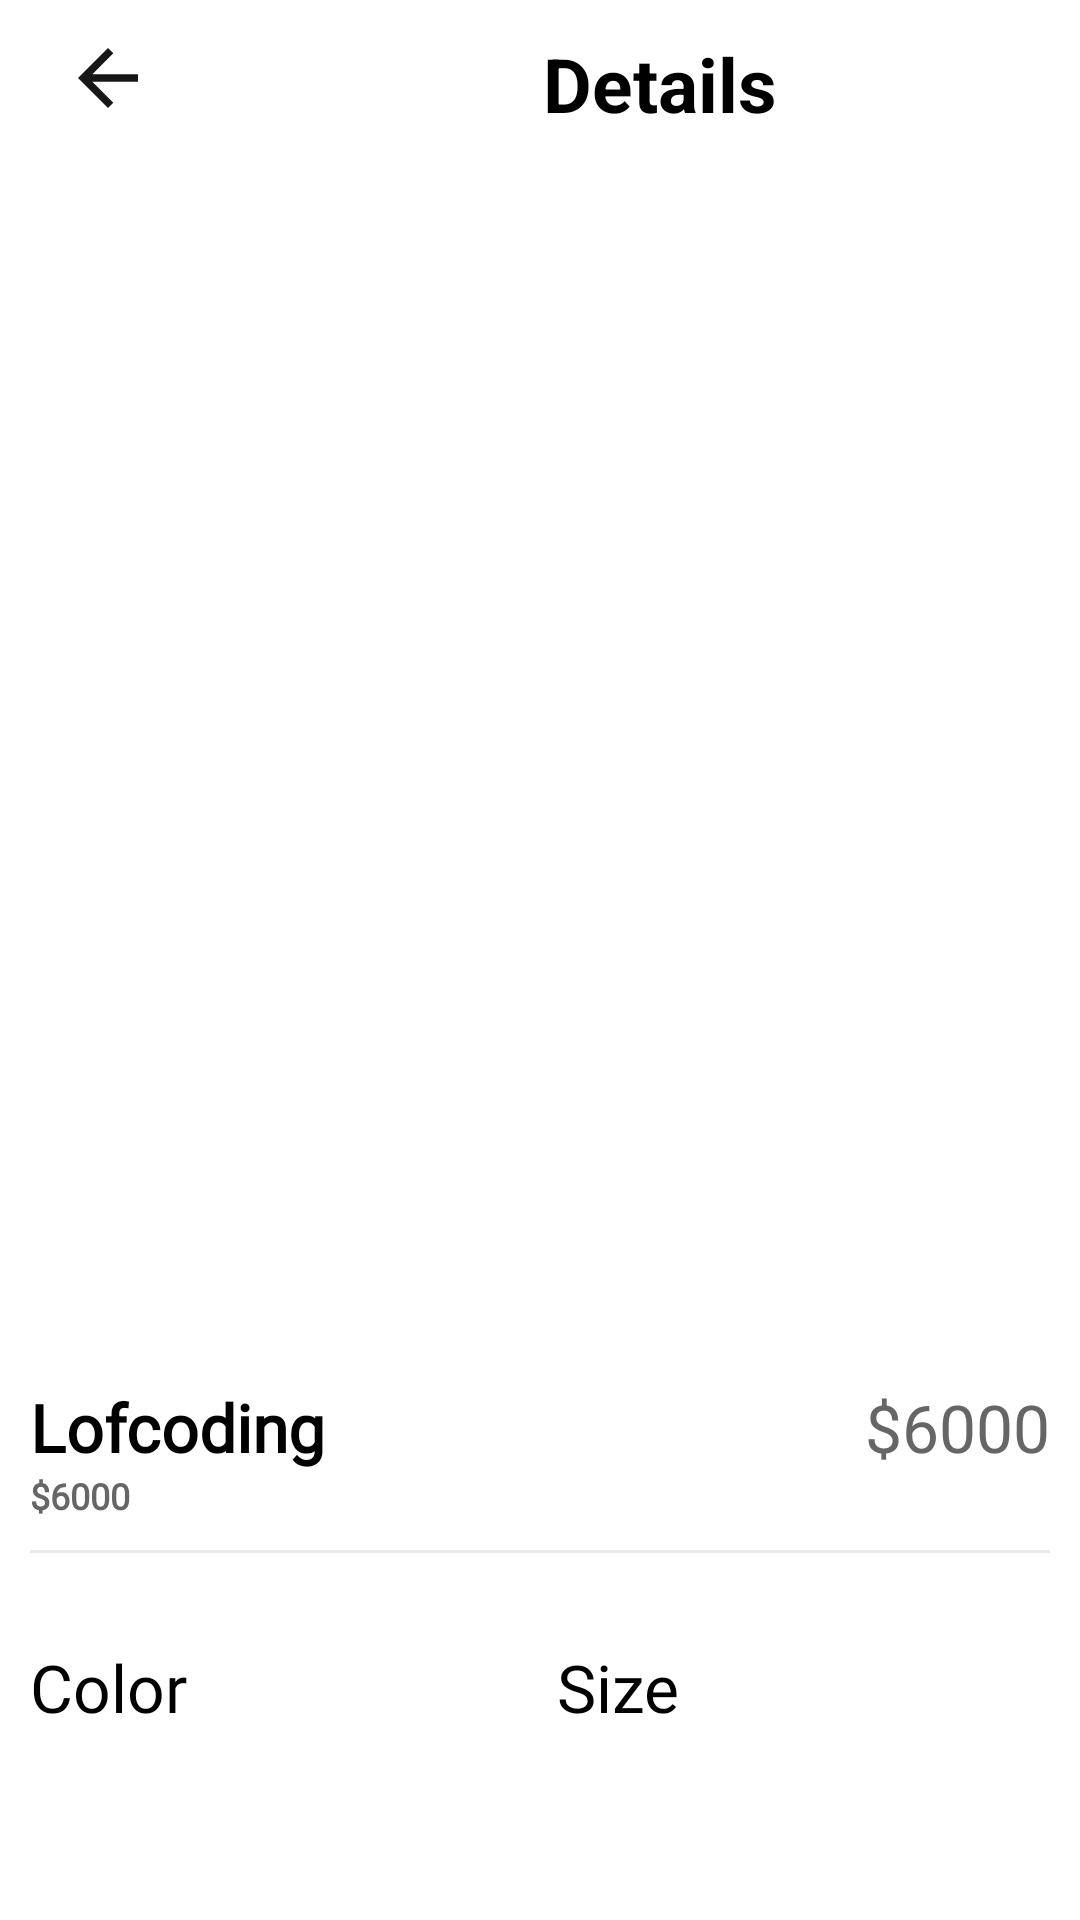

Where to tap for icons on this 1080 × 1920 app screen, as point (x, y):
arrow back: point (108, 78)
